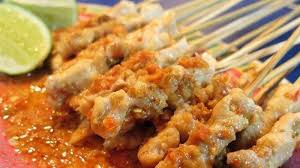sate: (36, 2, 300, 164)
